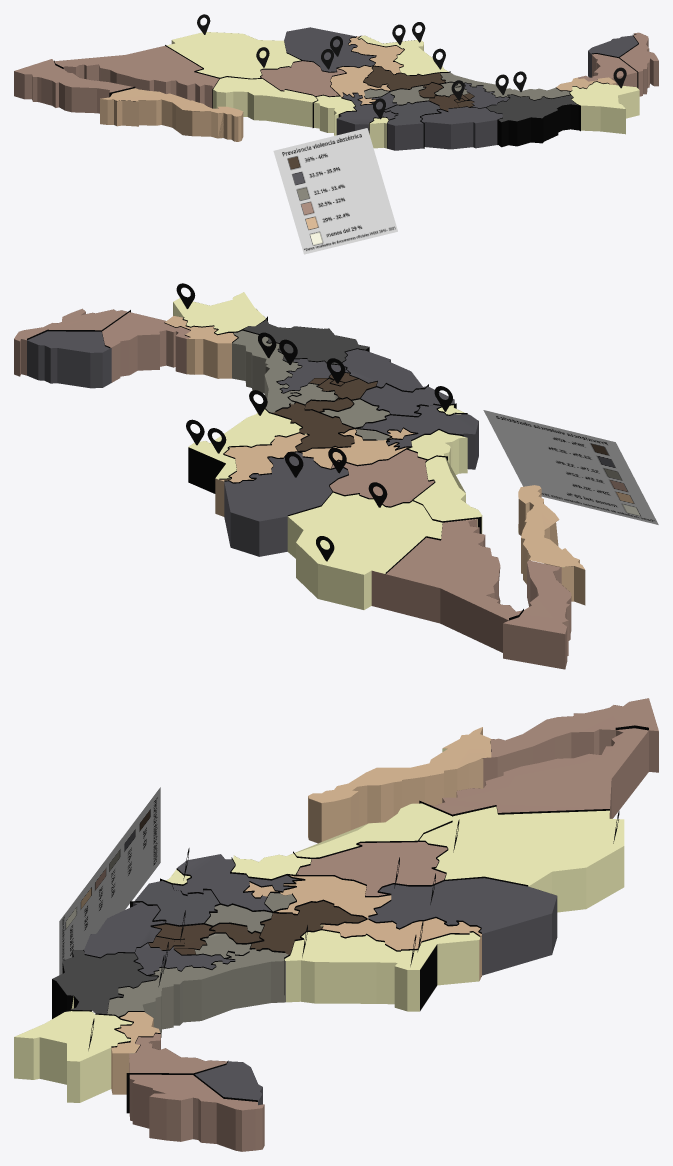
Rendered from Mapabueno.glb.
3 renders of one model, top to bottom at view 1: azimuth 30°, elevation 25°; view 2: azimuth 150°, elevation 25°; view 3: azimuth 270°, elevation 25°, orthographic. The views are drawn at different scales.
Visible parts, largest first — view 1: Plane, Plane.014; view 2: Plane, Plane.014; view 3: Plane, Plane.014.
Boxes of the visible parts, box(x1,y1,x2,y2) form: Plane: box(14, 27, 658, 150); Plane.014: box(273, 128, 397, 254); Plane: box(14, 292, 585, 669); Plane.014: box(483, 410, 658, 524); Plane: box(14, 698, 658, 1151); Plane.014: box(59, 787, 160, 974).
Size of the model in its own units: 12.16 by 2.27 by 8.04.
Materials: 22 (1 with a texture image).
